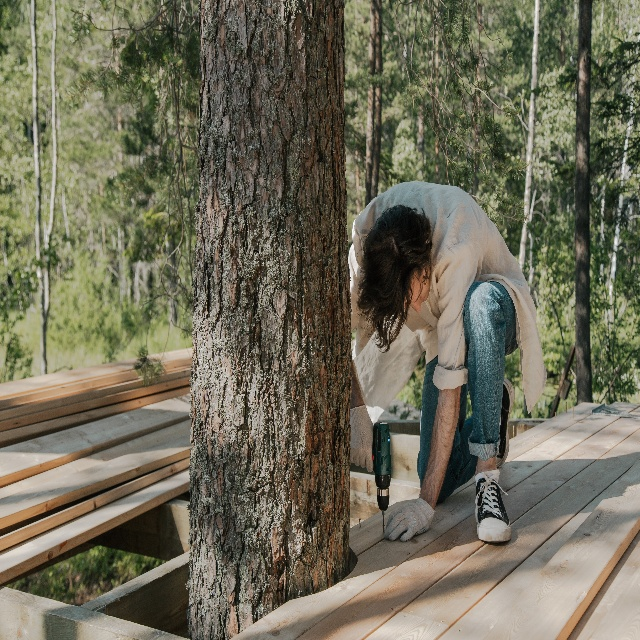Guantes: (384, 495, 435, 543), (349, 403, 374, 472)
